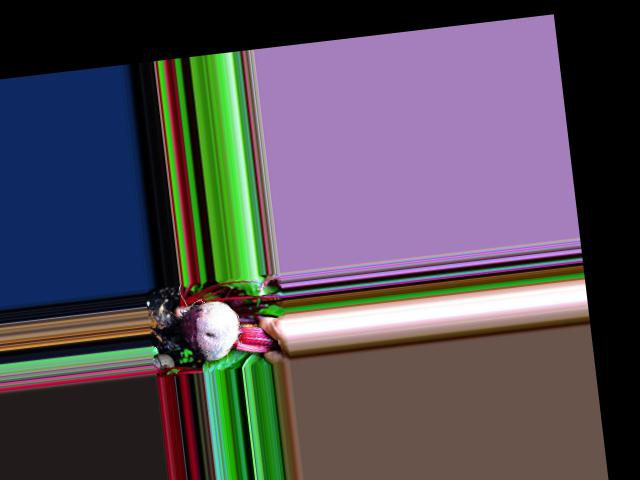beet: (146, 293, 281, 367)
